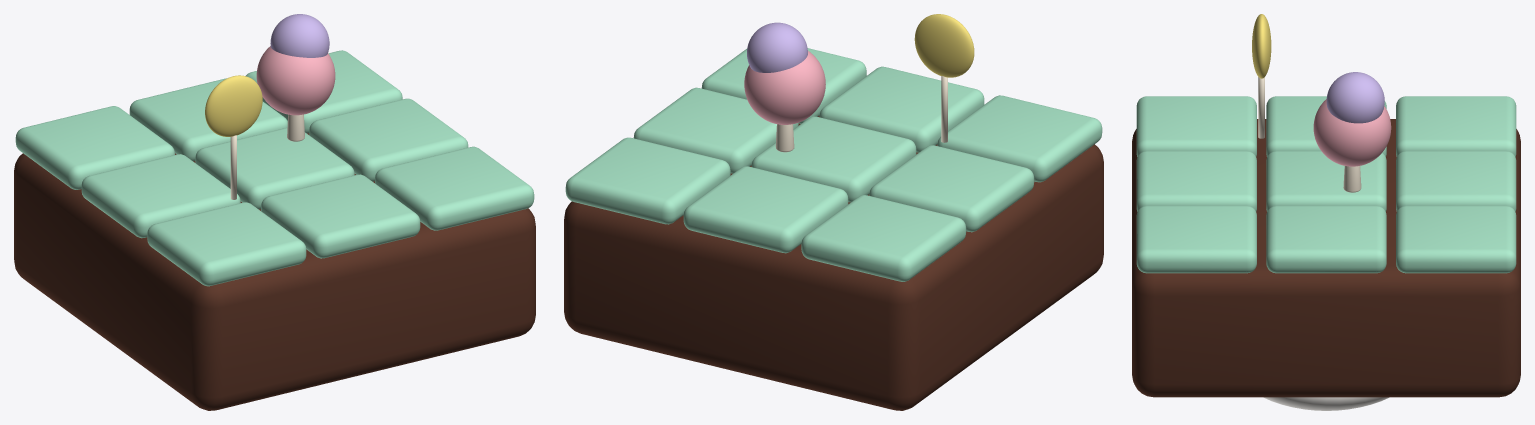
The model's file is islet.glb.
The picture shows the model from 3 angles, left to right: view 1: azimuth 30°, elevation 25°; view 2: azimuth 150°, elevation 25°; view 3: azimuth 270°, elevation 25°; orthographic projection. The views are drawn at different scales.
Visible parts, largest first — view 1: islet; view 2: islet; view 3: islet.
Part boxes in pixels (x1,y1,x2,y2): islet: (14, 14, 535, 410); islet: (564, 14, 1103, 410); islet: (1132, 14, 1520, 410).
Bounding box in the file's own units: 6 × 5.64 × 6.
